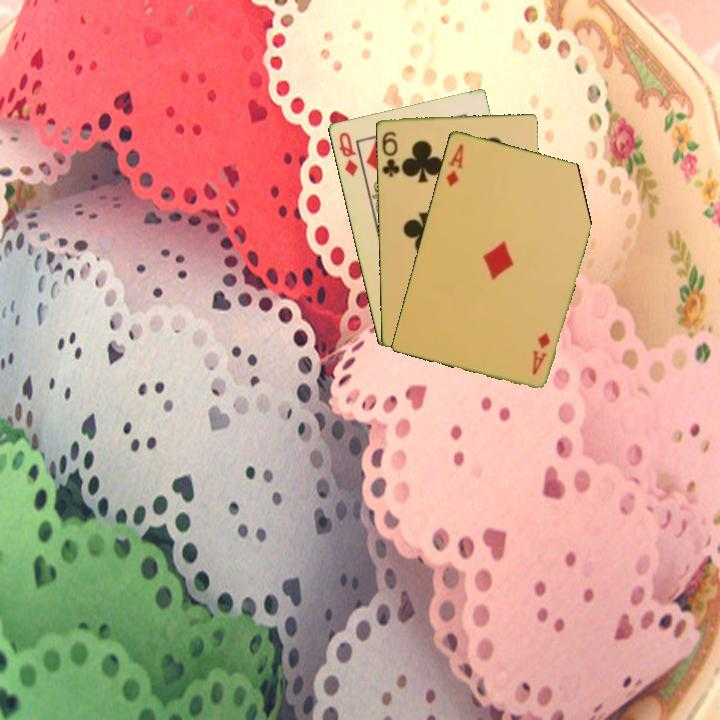6c: (378, 127, 402, 180)
Ad: (528, 329, 553, 377), (442, 140, 466, 189)
Qd: (335, 128, 360, 179)
